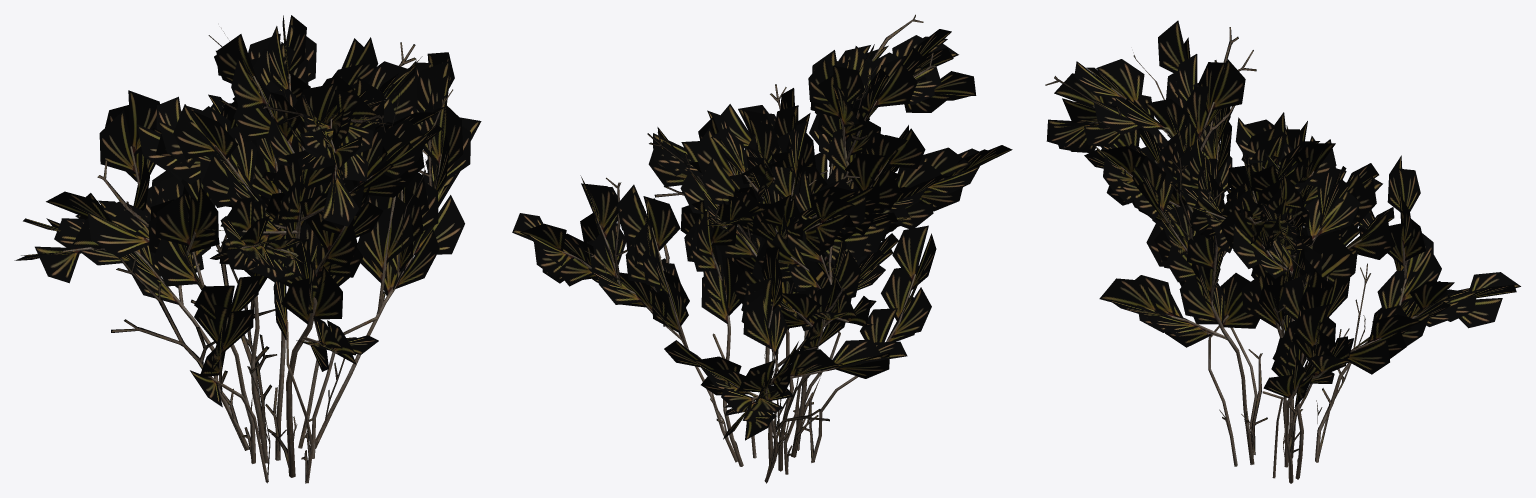
The model's file is prop_bush_rooibos_b.glb.
3 renders of one model, left to right at view 1: azimuth 30°, elevation 25°; view 2: azimuth 150°, elevation 25°; view 3: azimuth 270°, elevation 25°, orthographic. The views are drawn at different scales.
Visible parts, largest first — view 1: wild_rooibos_bush_c; view 2: wild_rooibos_bush_c; view 3: wild_rooibos_bush_c.
Part boxes in pixels (box(x1,y1,x2,y2)): wild_rooibos_bush_c: box(14, 15, 481, 483); wild_rooibos_bush_c: box(512, 14, 1012, 483); wild_rooibos_bush_c: box(1045, 20, 1520, 483).
Bounding box in the file's own units: 0.4254 × 0.4484 × 0.4721.
Materials: 3 (3 with a texture image).
